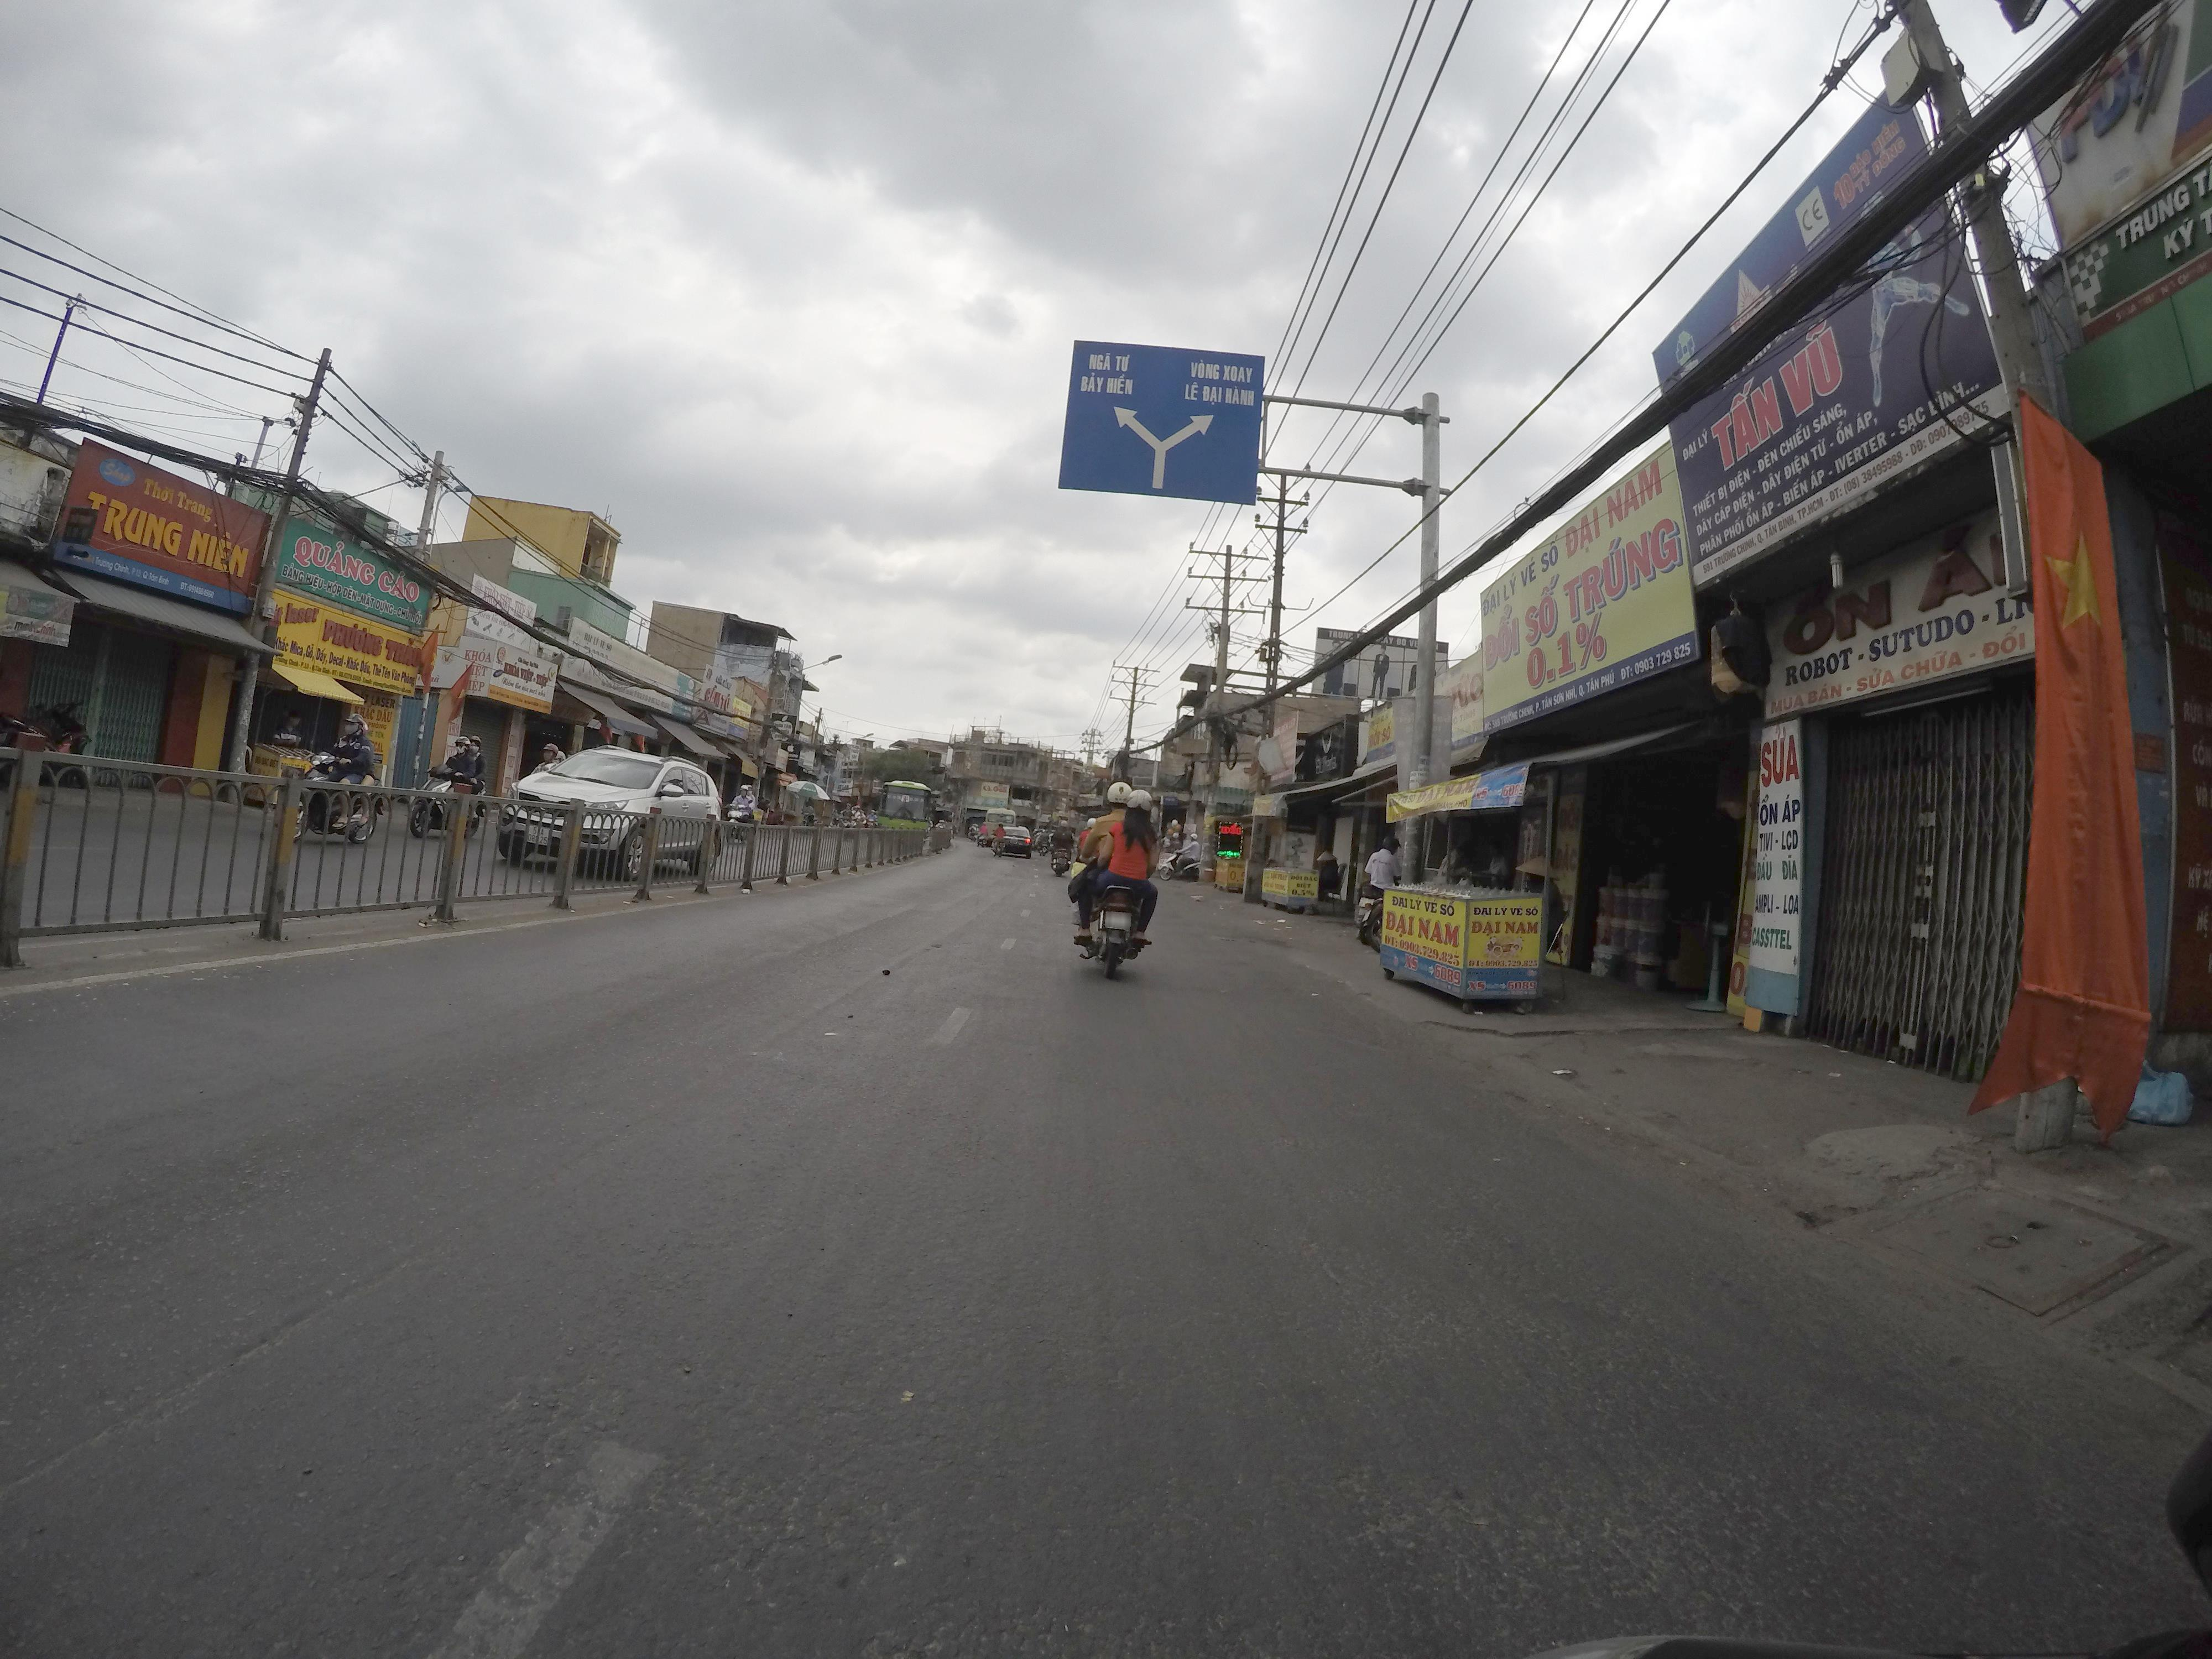vinyl banner: (1367, 770, 1550, 826)
